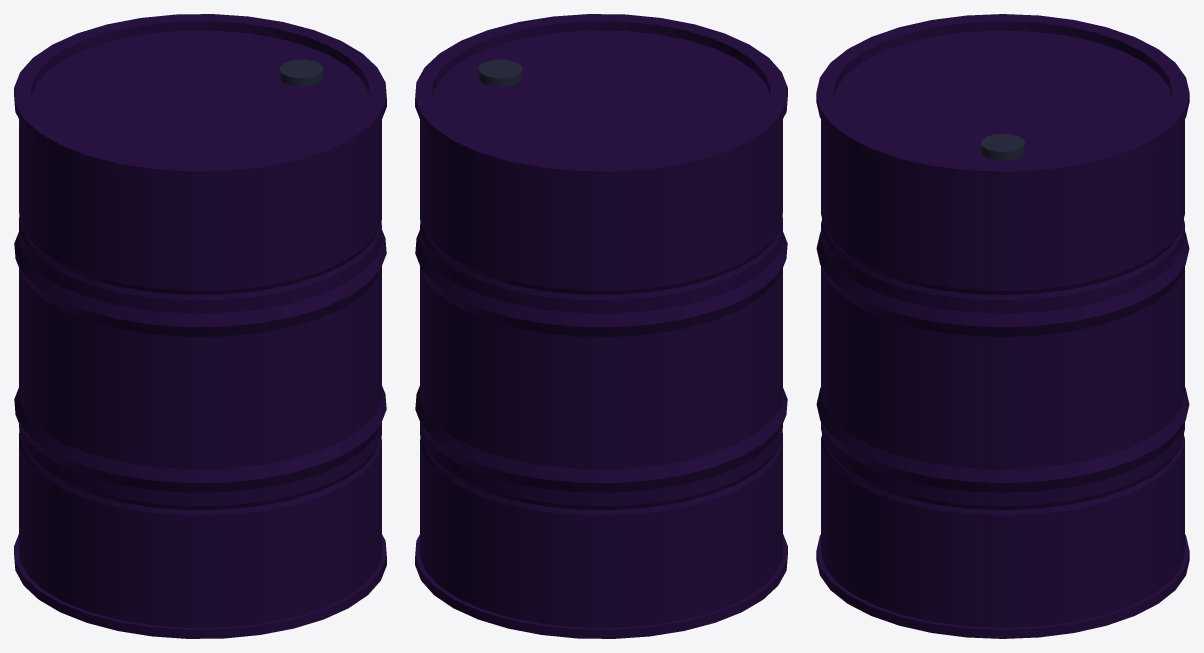
File: SM_barrel.fbx
3 renders of one model, left to right at view 1: azimuth 30°, elevation 25°; view 2: azimuth 150°, elevation 25°; view 3: azimuth 270°, elevation 25°, orthographic.
Visible parts, largest first — view 1: Barrel; view 2: Barrel; view 3: Barrel.
Boxes of the visible parts, <box> form: Barrel: <box>14,14,386,638</box>; Barrel: <box>415,14,787,638</box>; Barrel: <box>816,14,1189,638</box>.
Bounding box in the file's own units: 72.75 × 100 × 72.75.
